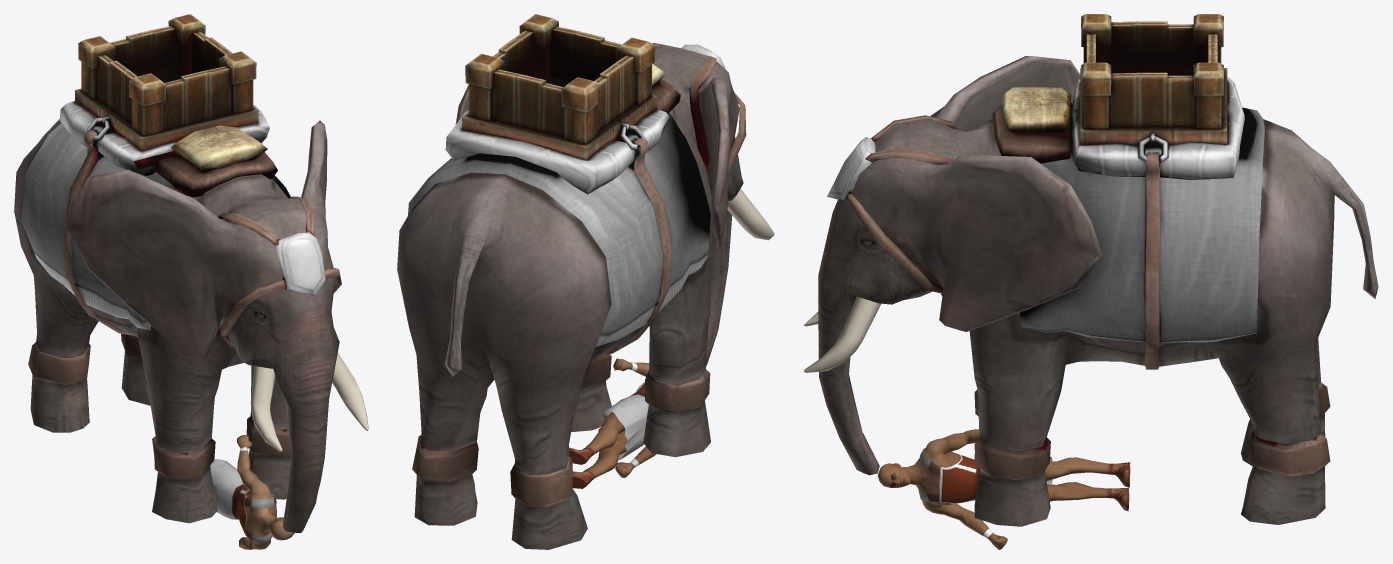
The model's file is 13-warelephant.glb.
3 renders of one model, left to right at view 1: azimuth 30°, elevation 25°; view 2: azimuth 150°, elevation 25°; view 3: azimuth 270°, elevation 25°, orthographic. The views are drawn at different scales.
Size of the model in its own units: 2.63 by 4.55 by 4.73.
4 materials, 3 textured.
